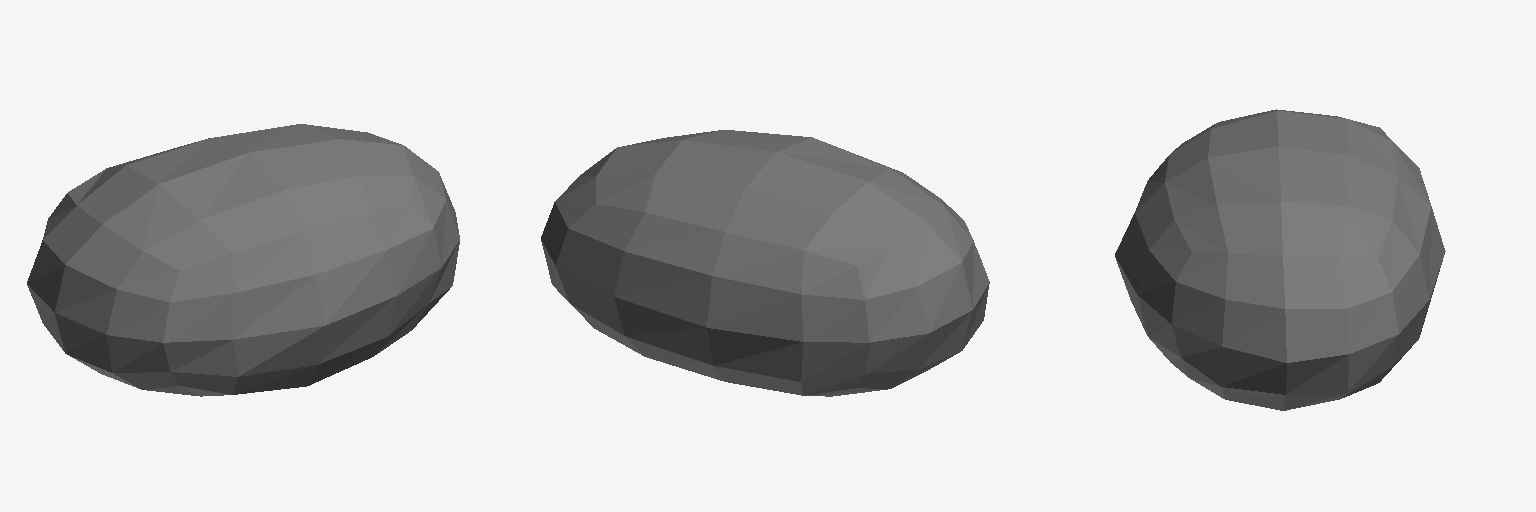
The model's file is Meteoro.obj.
The picture shows the model from 3 angles: view 1: azimuth 30°, elevation 25°; view 2: azimuth 150°, elevation 25°; view 3: azimuth 270°, elevation 25°; orthographic projection.
Visible parts, largest first — view 1: Meteoro2:Box001; view 2: Meteoro2:Box001; view 3: Meteoro2:Box001.
Part boxes in pixels (bbox=[...]): Meteoro2:Box001: bbox=[27, 124, 459, 396]; Meteoro2:Box001: bbox=[541, 130, 989, 396]; Meteoro2:Box001: bbox=[1115, 109, 1445, 410].
Size of the model in its own units: 3.78 by 1.88 by 2.67.